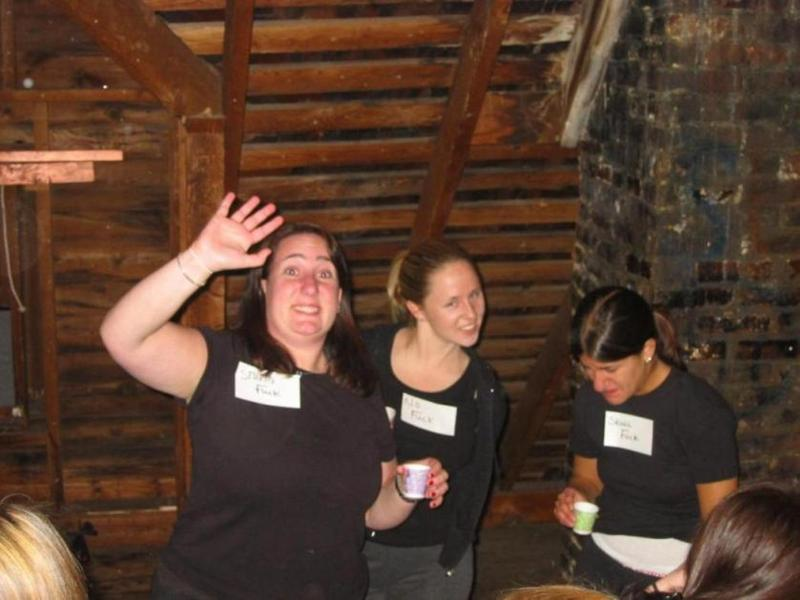person: (99, 195, 447, 600)
